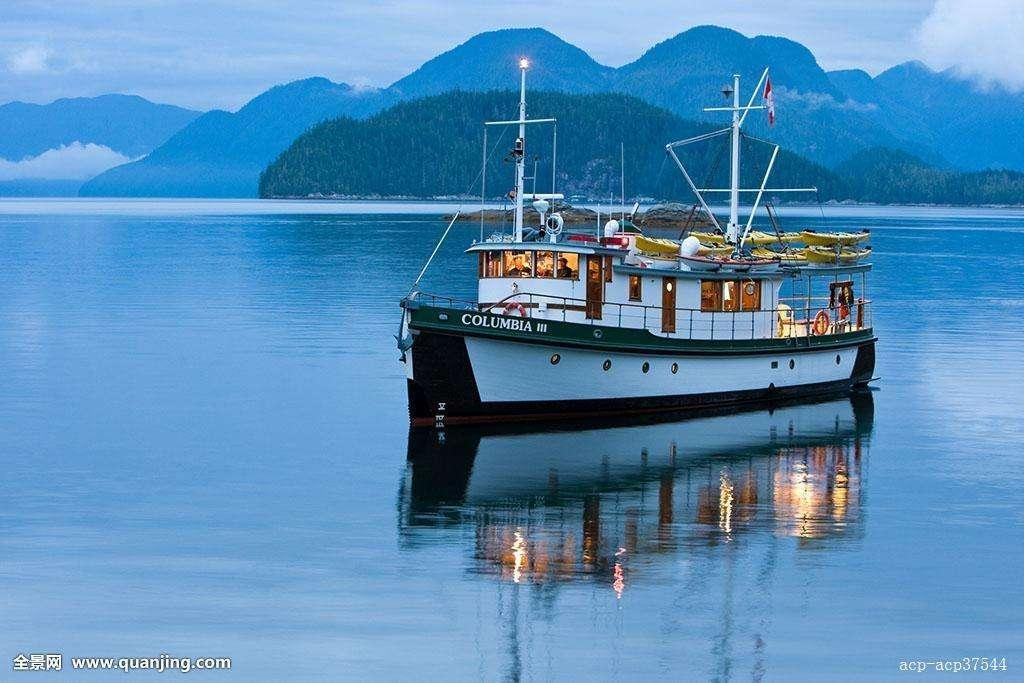otherboat: (402, 181, 877, 413)
